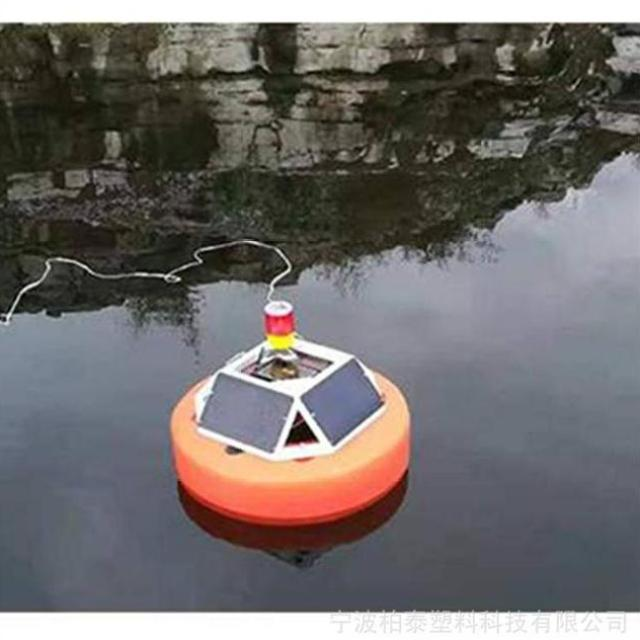buoy: (166, 297, 413, 521)
